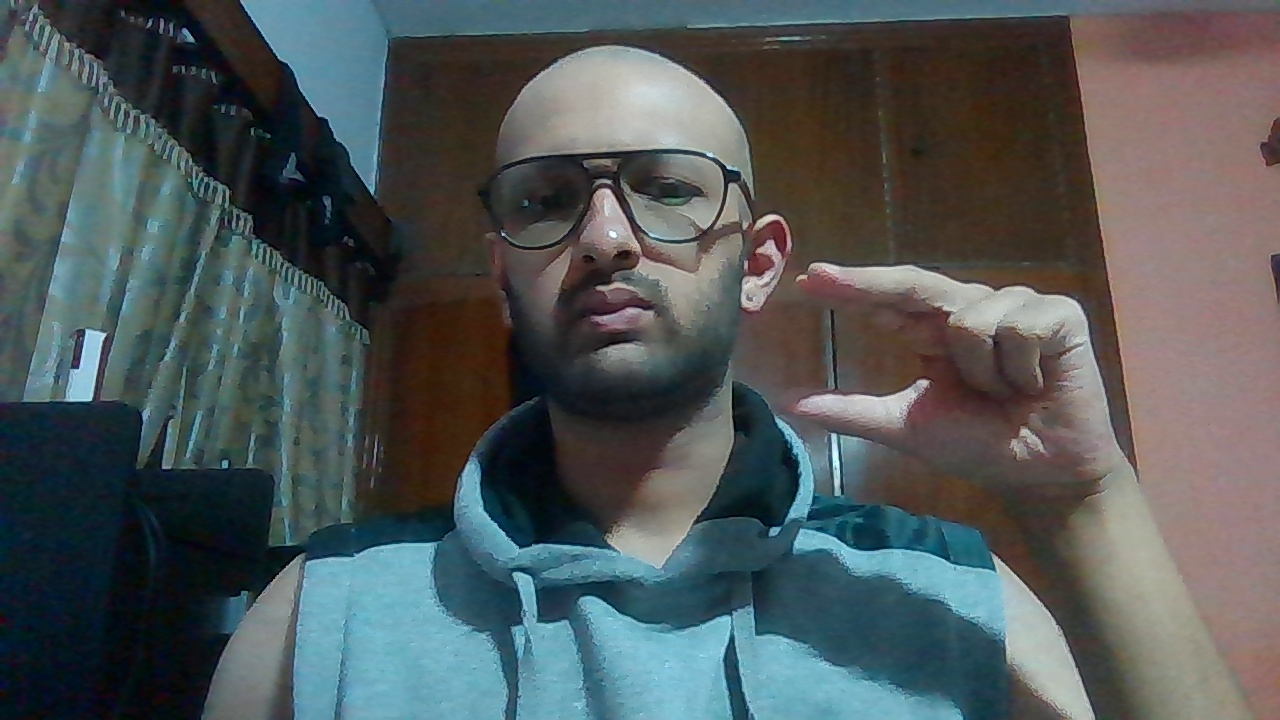No: (793, 259, 1124, 493)
